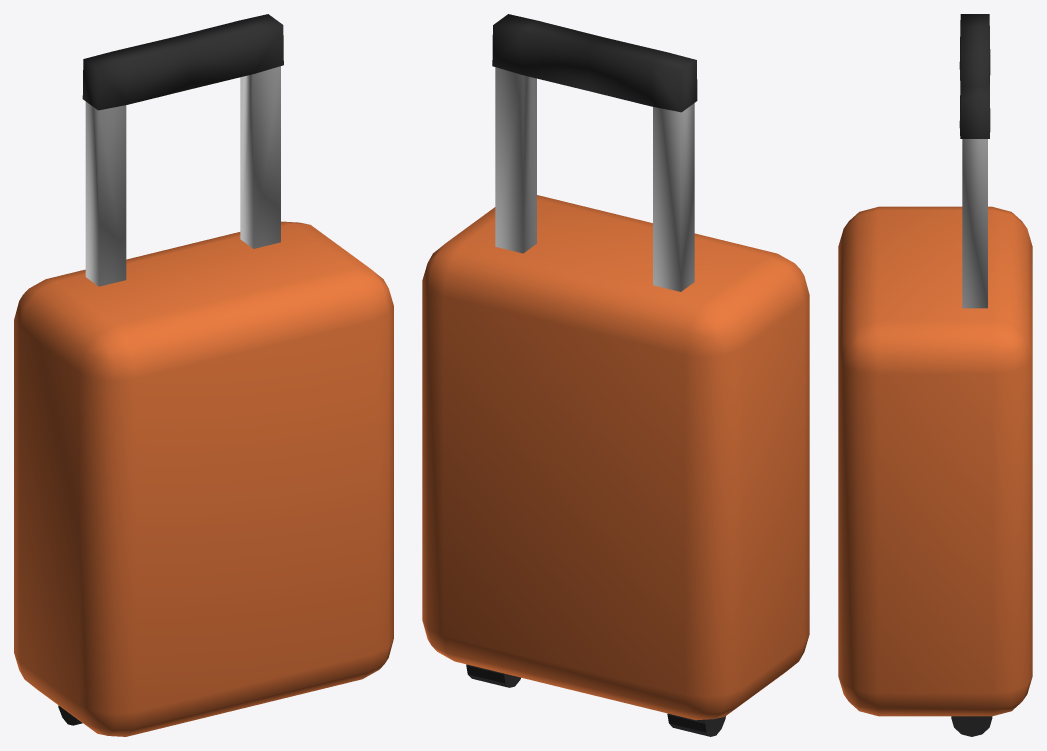
The model's file is suitcase.fbx.
3 renders of one model, left to right at view 1: azimuth 30°, elevation 25°; view 2: azimuth 150°, elevation 25°; view 3: azimuth 270°, elevation 25°, orthographic. The views are drawn at different scales.
Parts seen in each view (by area): view 1: suitcase; view 2: suitcase; view 3: suitcase.
Part boxes in pixels (x1,y1,x2,y2): suitcase: (14,14,393,736); suitcase: (422,14,809,736); suitcase: (838,14,1032,736).
Bounding box in the file's own units: 79.79 × 161 × 45.38.
